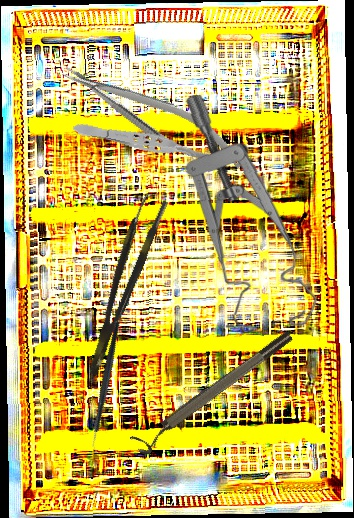Chopper: (52, 320, 163, 455)
Fixation Ring: (129, 328, 300, 458)
Needle Holder: (57, 47, 251, 184)
Speculum: (175, 94, 325, 336)
Tissue Forceps: (72, 192, 170, 377), (70, 117, 204, 166)
